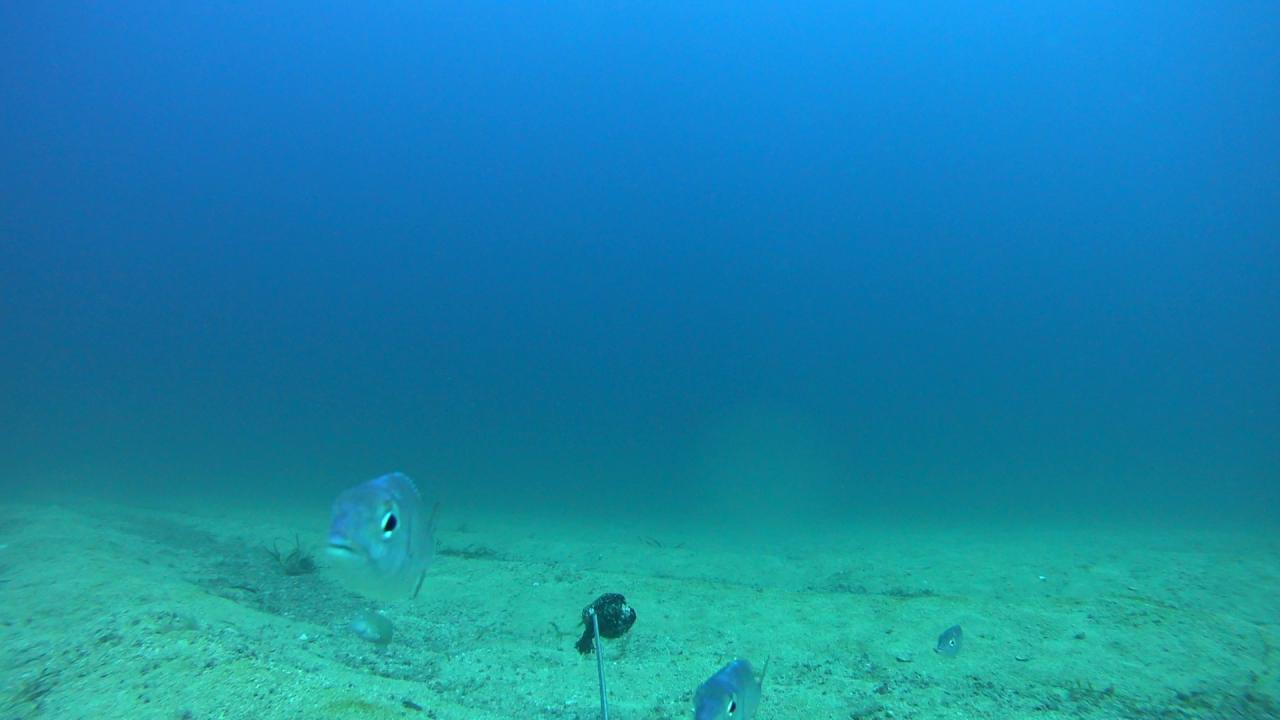pagellus: (324, 468, 438, 600), (935, 623, 961, 656)
